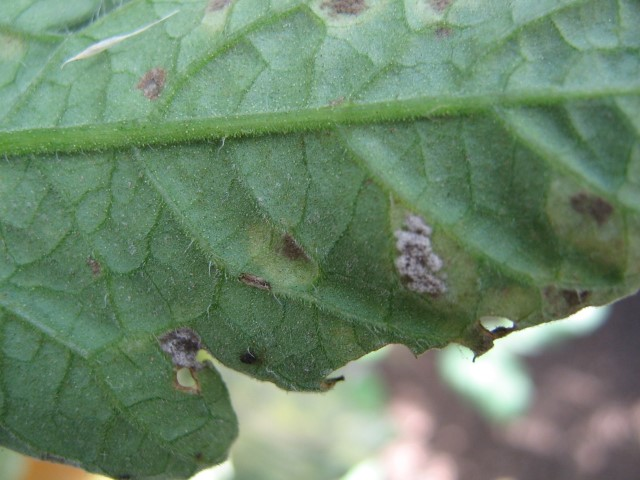cladosporium: (384, 204, 456, 301), (156, 325, 203, 370), (271, 226, 314, 265), (574, 190, 613, 230), (230, 267, 276, 295), (139, 67, 169, 99), (83, 251, 103, 281)
